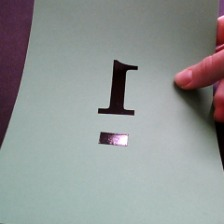green1: (89, 47, 147, 152)
